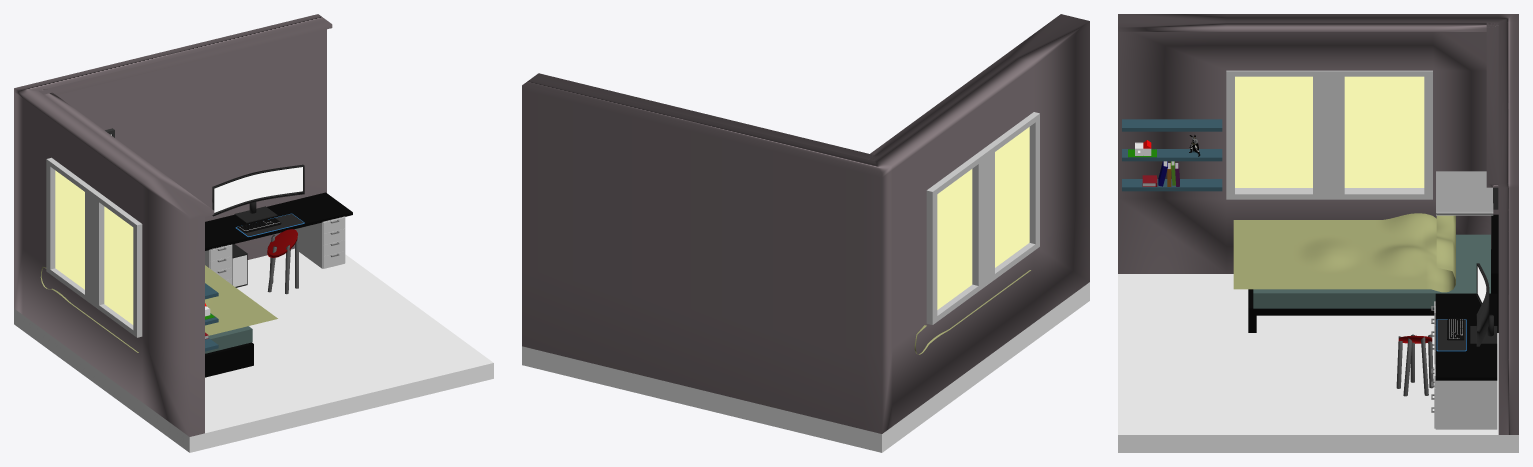
3 views of the same model, side by side, from view 1: azimuth 30°, elevation 25°; view 2: azimuth 150°, elevation 25°; view 3: azimuth 270°, elevation 25° (orthographic). The views are drawn at different scales.
Visible parts, largest first — view 1: Wall, Floor, Window, Cube.002, Tabletop, Plane.001, Monitor, Bed frame, Drawer.001, Cube.030, Mattress, Cylinder.002; view 2: Wall, Floor, Window, Cube.002; view 3: Wall, Floor, Window, Plane.001, Cube.002, Mattress, Tabletop, Drawer.001, Cube, Bed frame, Cube.009, Cube.005 (+3 smaller).
Part boxes in pixels (bbox=[...]): Wall: bbox=[14, 14, 332, 436]; Floor: bbox=[14, 248, 493, 452]; Window: bbox=[55, 170, 133, 324]; Cube.002: bbox=[46, 157, 142, 337]; Tabletop: bbox=[205, 192, 352, 250]; Plane.001: bbox=[40, 265, 277, 352]; Monitor: bbox=[214, 167, 302, 212]; Bed frame: bbox=[205, 342, 253, 377]; Drawer.001: bbox=[295, 216, 345, 268]; Cube.030: bbox=[212, 164, 304, 216]; Mattress: bbox=[205, 326, 252, 353]; Cylinder.002: bbox=[267, 229, 297, 257]; Wall: bbox=[522, 14, 1089, 433]; Floor: bbox=[522, 282, 1089, 452]; Window: bbox=[937, 127, 1029, 309]; Cube.002: bbox=[926, 112, 1039, 324]; Wall: bbox=[1118, 14, 1518, 434]; Floor: bbox=[1118, 274, 1518, 452]; Window: bbox=[1235, 76, 1424, 187]; Plane.001: bbox=[1233, 213, 1455, 292]; Cube.002: bbox=[1226, 70, 1432, 199]; Mattress: bbox=[1253, 234, 1490, 308]; Tabletop: bbox=[1435, 293, 1497, 380]; Drawer.001: bbox=[1435, 380, 1497, 429]; Cube: bbox=[1436, 171, 1493, 215]; Bed frame: bbox=[1248, 214, 1498, 332]; Cube.009: bbox=[1122, 119, 1222, 131]; Cube.005: bbox=[1122, 179, 1222, 191].
Size of what is drawn, in the model's own units: 2.03 by 1.54 by 2.
51 materials, 2 textured.
